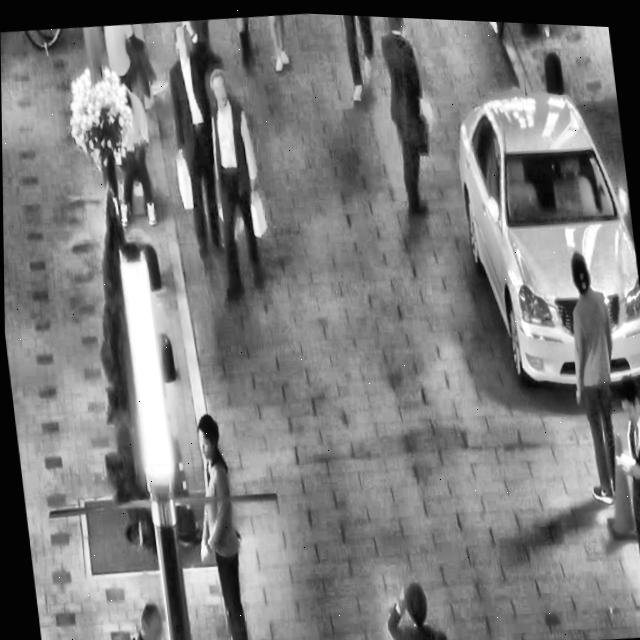light_vehicle: (441, 56, 640, 399)
